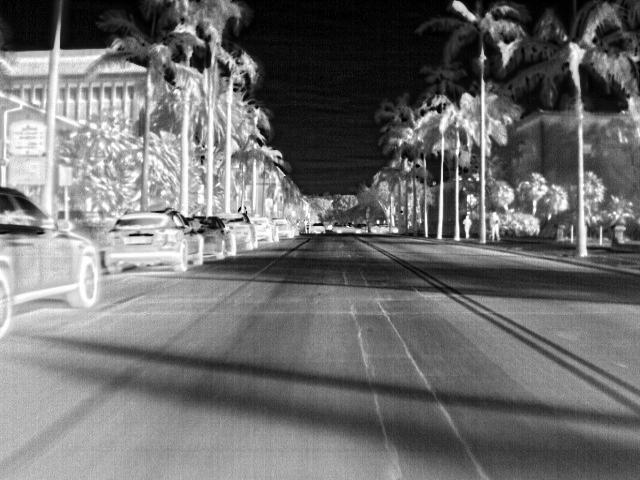car: (1, 186, 103, 340), (106, 210, 203, 273), (189, 214, 236, 258), (225, 214, 258, 248), (253, 217, 275, 243), (275, 218, 295, 237), (312, 220, 328, 236)
person: (489, 212, 501, 243), (463, 214, 472, 238)
